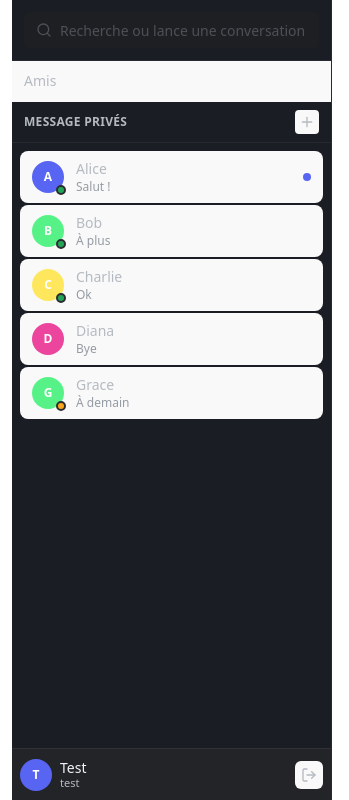
Scenario: MainSidebar › shows no results message when search matches nothing
Type "zzzzz" into the field with placeholder "Recherche ou lance une conversation".
click(172, 30); type("zzzzz")  # box [24,12,319,48]
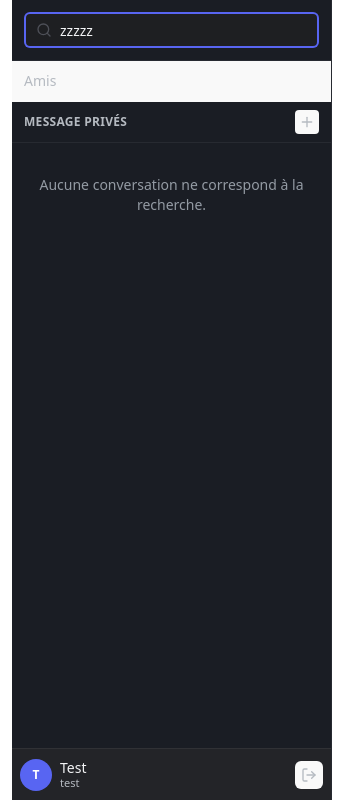
Check: the text "Aucune conversation ne correspond à la recherche." is shown, box [40,175,304,214]
